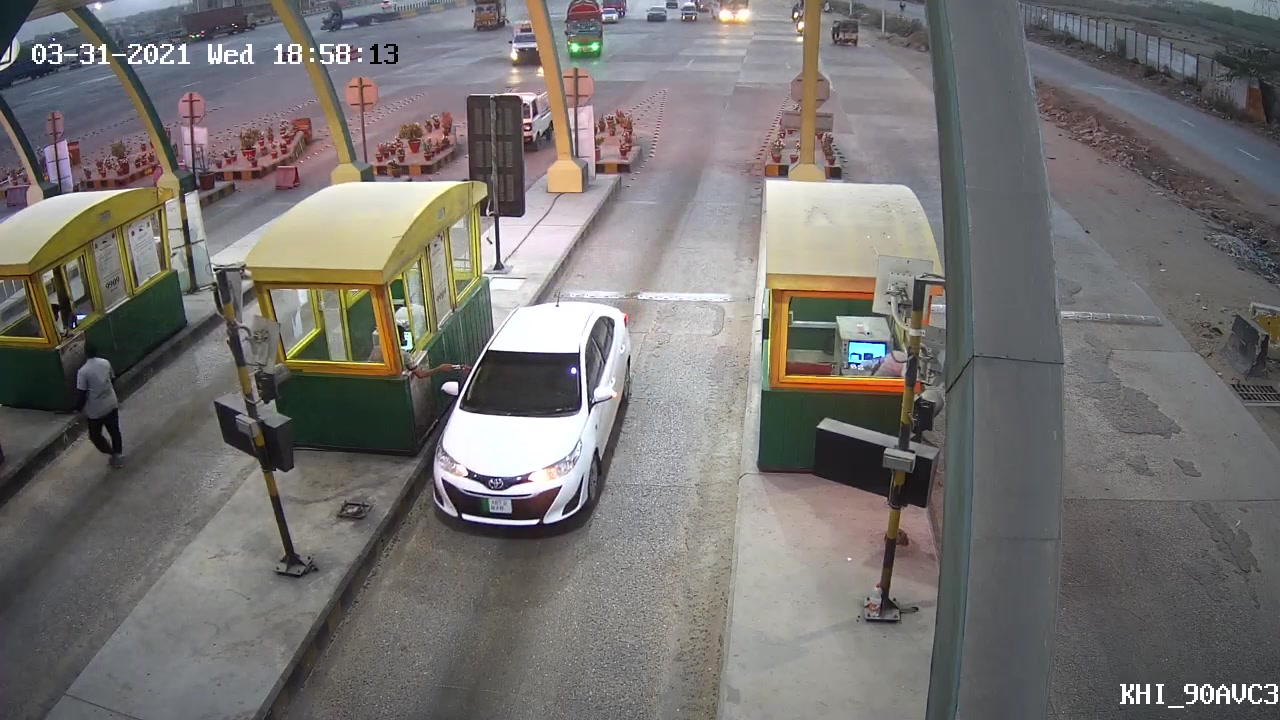F1: (428, 295, 633, 531)
